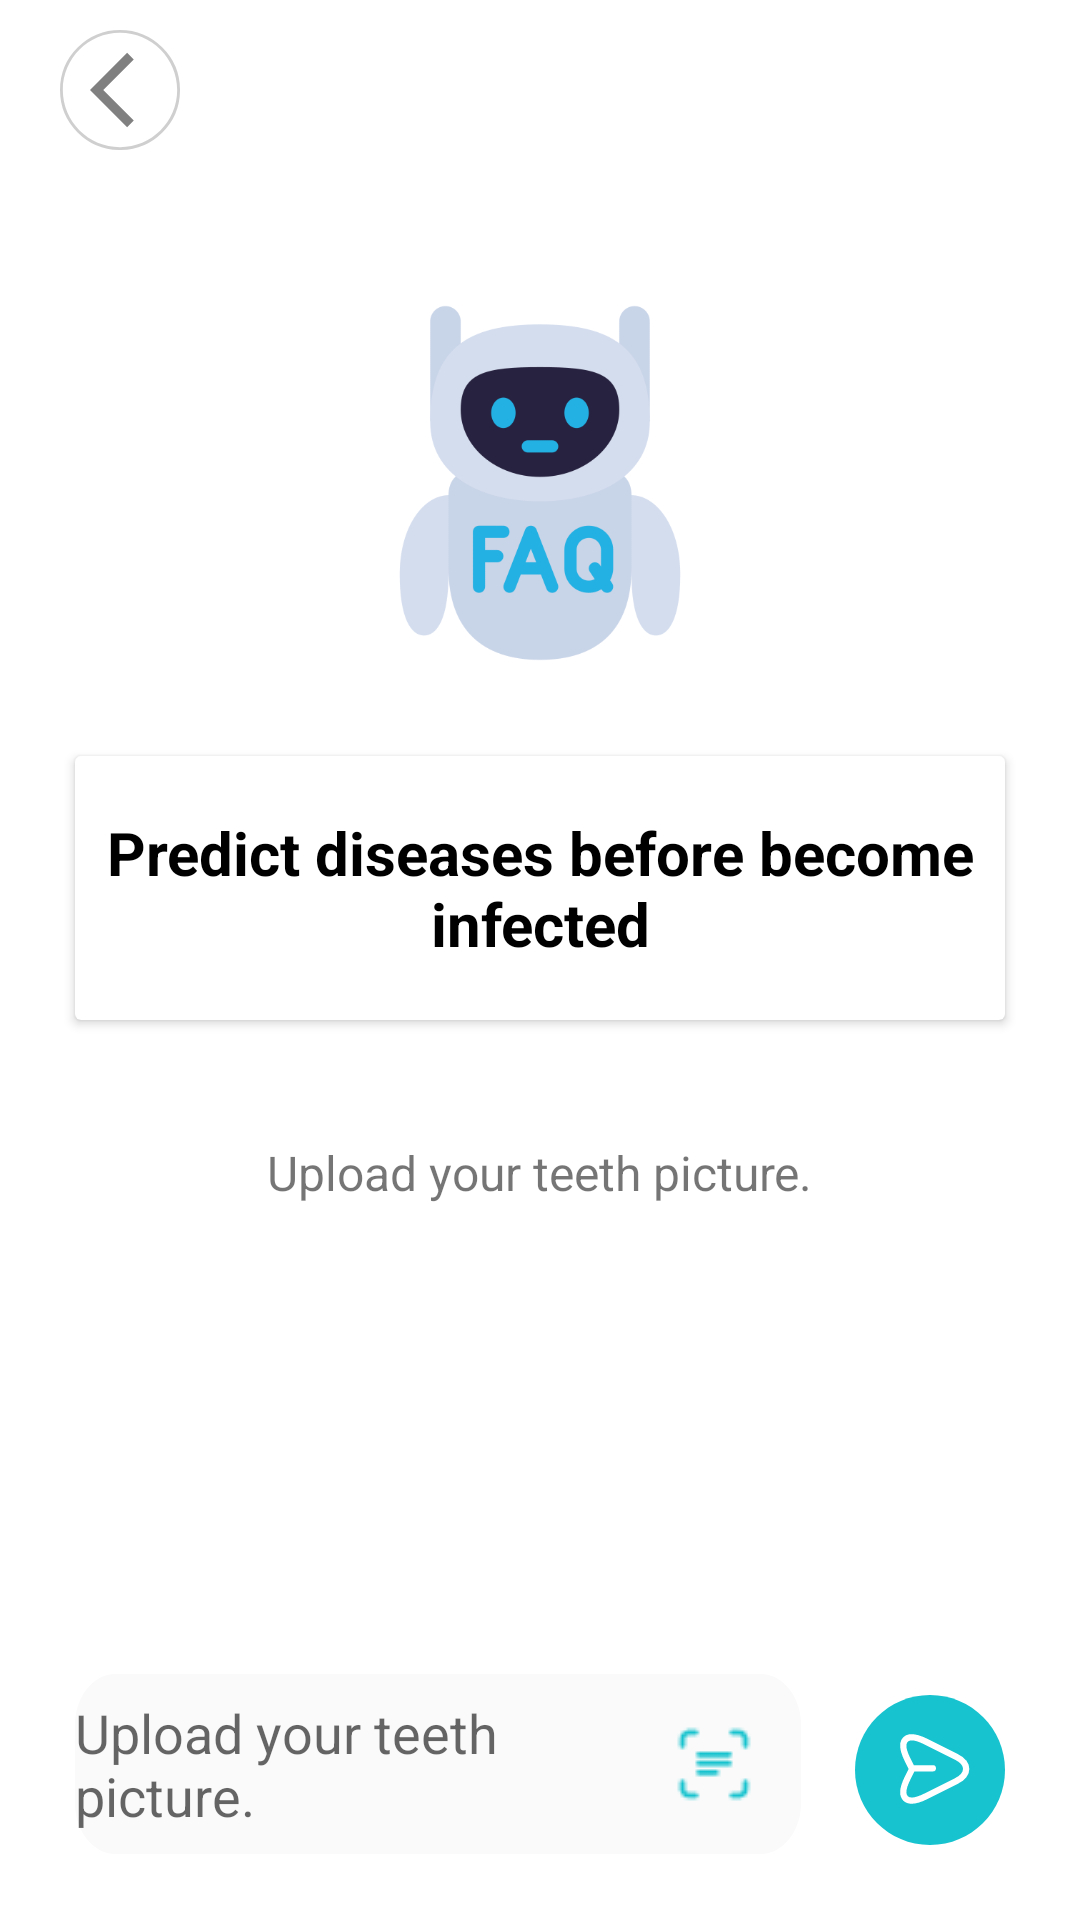

Named icons in this screenshot (1080*1920) and their bounding boxes, (x1, y1, x2, y2):
back: (60, 30, 180, 150)
robot: (400, 306, 680, 660)
